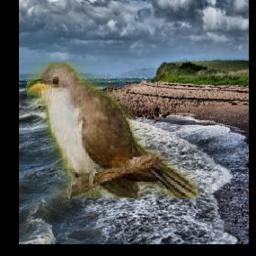Cuckoo: (26, 62, 198, 198)
